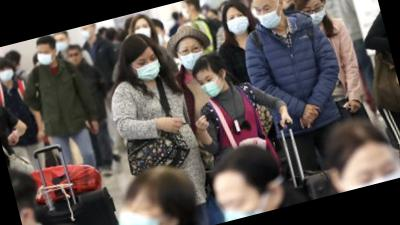with_mask: (109, 188, 172, 225), (212, 184, 266, 224), (131, 52, 165, 87), (176, 40, 208, 75), (223, 9, 254, 38), (196, 71, 225, 101), (302, 0, 330, 29), (131, 21, 154, 44), (35, 46, 56, 67), (180, 2, 194, 21), (79, 25, 94, 42), (55, 37, 70, 53)
without_mask: (66, 47, 84, 68)
